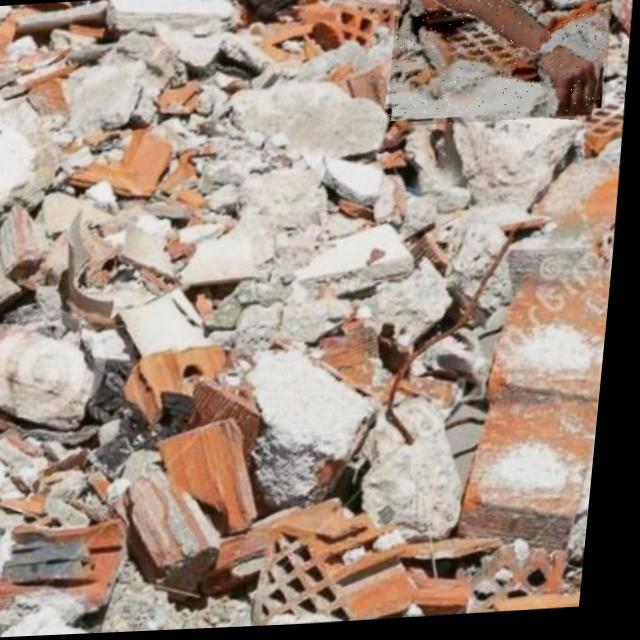Person in Rubble: (386, 0, 617, 130)
